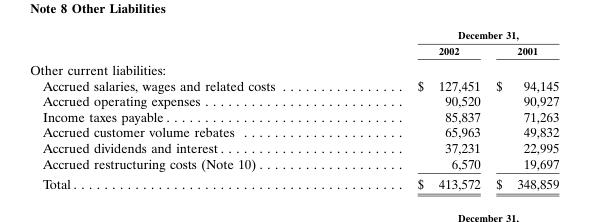table: (29, 28, 558, 191)
table column: (29, 28, 345, 191), (345, 28, 487, 191), (487, 28, 558, 191)
table column header: (29, 28, 558, 59)
table projected row header: (29, 59, 558, 77)
table row: (29, 59, 558, 77), (29, 155, 558, 173), (29, 173, 558, 191), (29, 42, 558, 59), (29, 77, 558, 93), (29, 108, 558, 124), (29, 139, 558, 155), (29, 93, 558, 108), (29, 124, 558, 139), (29, 28, 558, 42)
table spanning cell: (345, 28, 558, 42)
